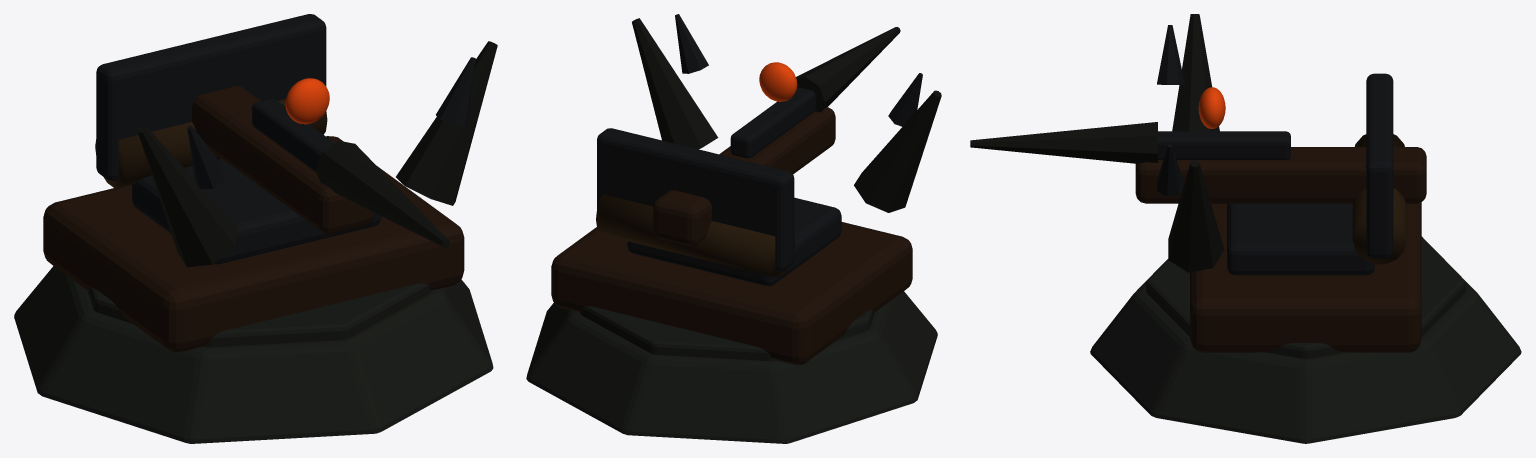
Rendered from TowerDemon1_pose.obj.
The picture shows the model from 3 angles, left to right: view 1: azimuth 30°, elevation 25°; view 2: azimuth 150°, elevation 25°; view 3: azimuth 270°, elevation 25°; orthographic projection. The views are drawn at different scales.
Parts seen in each view (by area): view 1: charred_stone_footing_lower_course, dark_oak_altar_bed, iron_horn_mantle, demon_stock, black_iron_pivot, charred_stone_footing_upper_course, bone_bow_limb, bone_bow_limb.001, bone_demon_bolt, iron_demon_guide, bronze_blood_winch, amber_cursed_sight (+2 smaller); view 2: charred_stone_footing_lower_course, dark_oak_altar_bed, iron_horn_mantle, bronze_blood_winch, demon_stock, charred_stone_footing_upper_course, bone_bow_limb, bone_bow_limb.001, black_iron_pivot, bone_demon_bolt, iron_demon_guide, amber_cursed_sight (+2 smaller); view 3: charred_stone_footing_lower_course, dark_oak_altar_bed, demon_stock, black_iron_pivot, charred_stone_footing_upper_course, iron_horn_mantle, bone_demon_bolt, bone_bow_limb.001, iron_demon_guide, bone_bow_limb, bronze_blood_winch, iron_limb_thorn (+2 smaller).
Boxes of the visible parts, bbox=[...] form: charred_stone_footing_lower_course: bbox=[14, 266, 493, 443]; dark_oak_altar_bed: bbox=[43, 136, 464, 351]; iron_horn_mantle: bbox=[96, 14, 326, 180]; demon_stock: bbox=[192, 86, 374, 234]; black_iron_pivot: bbox=[132, 158, 381, 264]; charred_stone_footing_upper_course: bbox=[87, 283, 431, 347]; bone_bow_limb: bbox=[137, 125, 237, 267]; bone_bow_limb.001: bbox=[396, 41, 497, 205]; bone_demon_bolt: bbox=[315, 141, 449, 247]; iron_demon_guide: bbox=[252, 98, 334, 172]; bronze_blood_winch: bbox=[95, 99, 327, 187]; amber_cursed_sight: bbox=[285, 78, 329, 124]; charred_stone_footing_lower_course: bbox=[526, 291, 937, 443]; dark_oak_altar_bed: bbox=[551, 222, 912, 364]; iron_horn_mantle: bbox=[597, 128, 794, 271]; bronze_blood_winch: bbox=[596, 194, 795, 277]; demon_stock: bbox=[653, 107, 835, 245]; charred_stone_footing_upper_course: bbox=[579, 306, 874, 360]; bone_bow_limb: bbox=[854, 90, 941, 212]; bone_bow_limb.001: bbox=[632, 18, 718, 149]; black_iron_pivot: bbox=[627, 197, 841, 286]; bone_demon_bolt: bbox=[796, 27, 900, 112]; iron_demon_guide: bbox=[730, 87, 815, 158]; amber_cursed_sight: bbox=[759, 62, 797, 101]; charred_stone_footing_lower_course: bbox=[1090, 255, 1521, 443]; dark_oak_altar_bed: bbox=[1190, 202, 1421, 352]; demon_stock: bbox=[1135, 147, 1426, 203]; black_iron_pivot: bbox=[1227, 203, 1374, 275]; charred_stone_footing_upper_course: bbox=[1146, 236, 1465, 358]; iron_horn_mantle: bbox=[1366, 73, 1393, 258]; bone_demon_bolt: bbox=[970, 122, 1157, 163]; bone_bow_limb.001: bbox=[1168, 160, 1224, 272]; iron_demon_guide: bbox=[1158, 131, 1290, 159]; bone_bow_limb: bbox=[1172, 14, 1219, 131]; bronze_blood_winch: bbox=[1352, 134, 1406, 264]; iron_limb_thorn: bbox=[1157, 25, 1184, 84].
Size of the model in its own units: 1.75 by 1.2 by 2.23.
